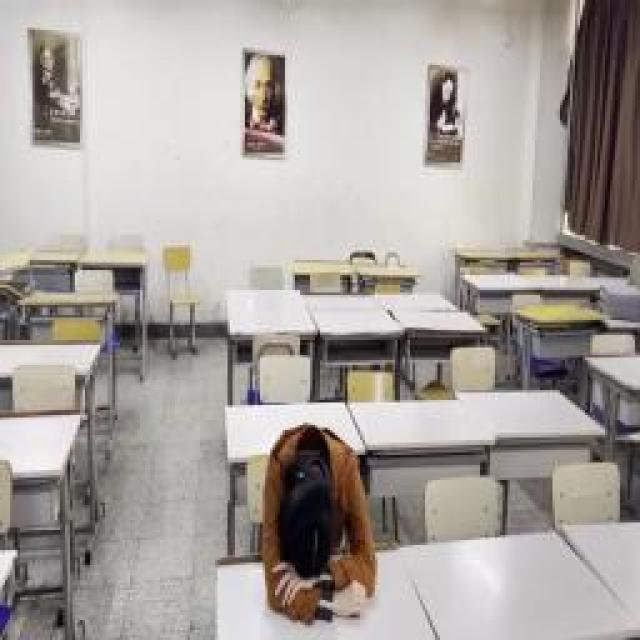sleep: (262, 430, 370, 605)
